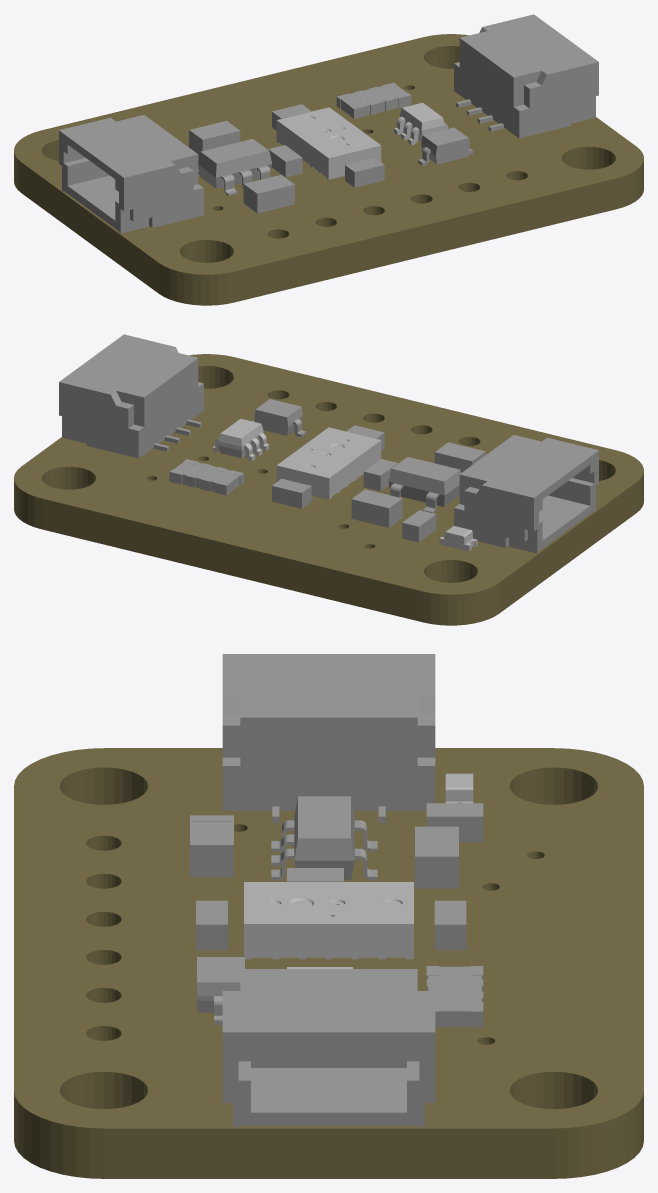
Rendered from adafruit-3316-vl6180.glb.
3 views of the same model, one above another, from view 1: azimuth 30°, elevation 25°; view 2: azimuth 150°, elevation 25°; view 3: azimuth 270°, elevation 25° (orthographic). The views are drawn at different scales.
Parts seen in each view (by area): view 1: colour 1, colour 2, colour 4, colour 3; view 2: colour 1, colour 2, colour 4, colour 3; view 3: colour 1, colour 2, colour 4.
Boxes of the visible parts, left/top/right/bottom form: colour 1: left=14, top=34, right=643, bottom=305; colour 2: left=59, top=14, right=598, bottom=233; colour 4: left=276, top=107, right=381, bottom=179; colour 3: left=394, top=102, right=448, bottom=145; colour 1: left=14, top=354, right=643, bottom=625; colour 2: left=59, top=334, right=598, bottom=553; colour 4: left=276, top=427, right=477, bottom=551; colour 3: left=212, top=418, right=269, bottom=461; colour 1: left=14, top=748, right=643, bottom=1178; colour 2: left=190, top=654, right=483, bottom=1127; colour 4: left=244, top=773, right=473, bottom=959.
Size of the model in its own units: 0.0254 by 0.00453 by 0.0178.
